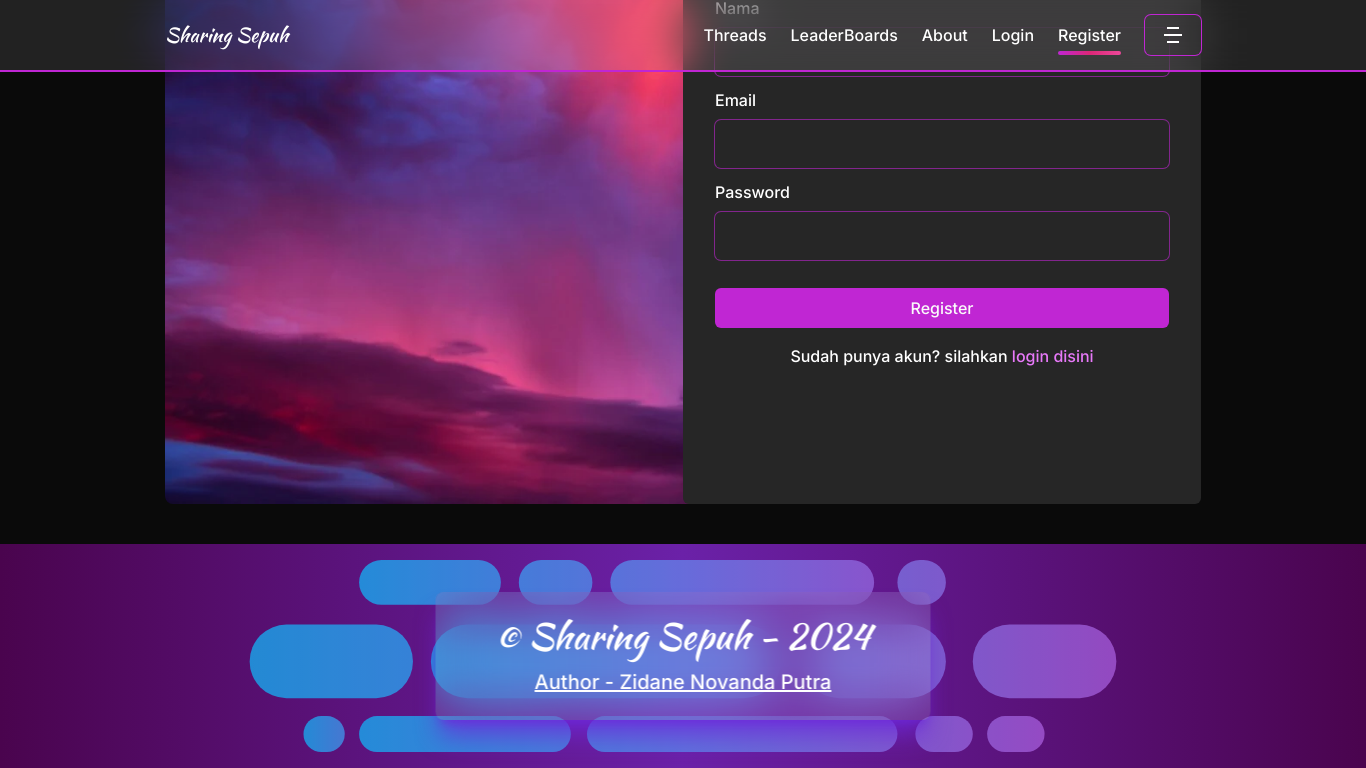
Test case: Register spec › should display input note error and button register disable when name, email and password is empty
(page scrolled)
Click the button "Register" at (942, 308), box [715,288,1169,328]
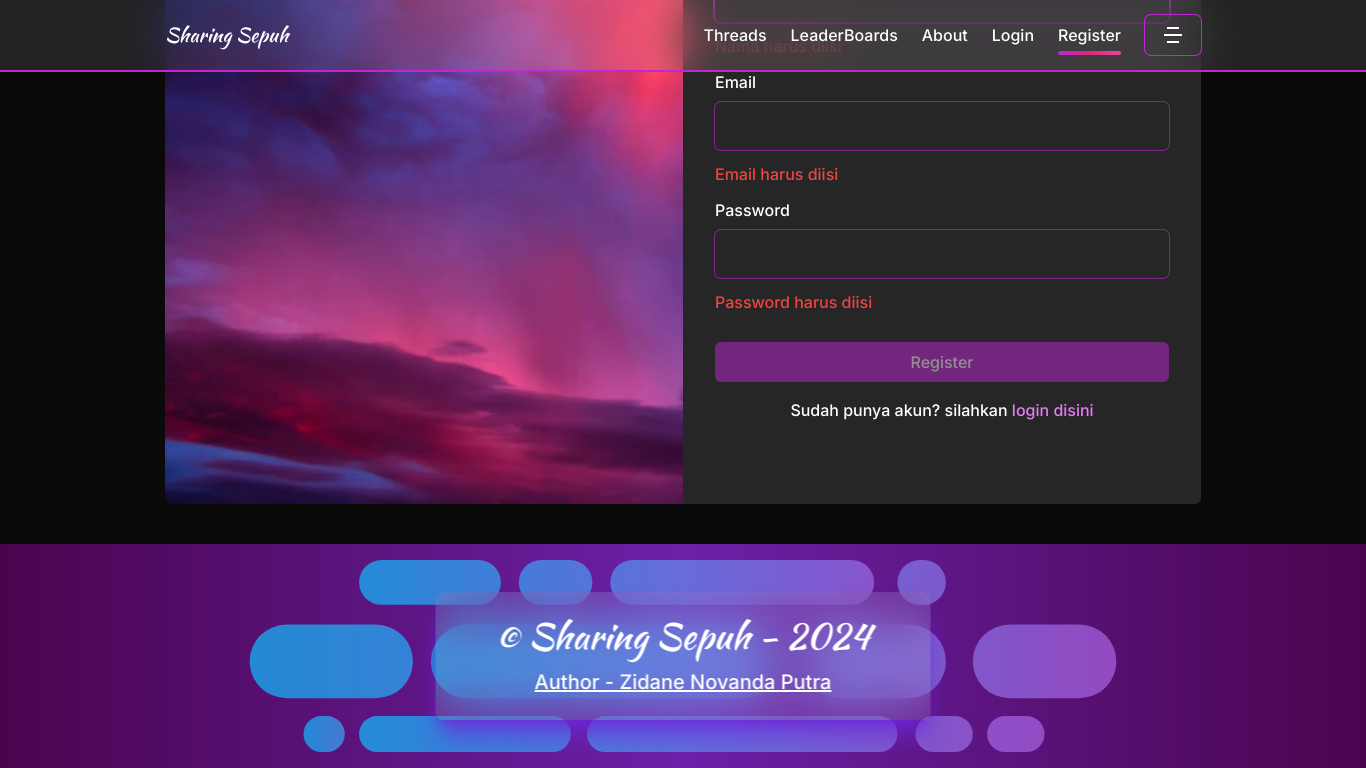
Expected: the button "Login" is disabled, [992,23,1034,47]
Expected: the text "Email harus diisi" is shown, [715,164,838,184]
Expected: the text "Password harus diisi" is shown, [715,292,872,312]
